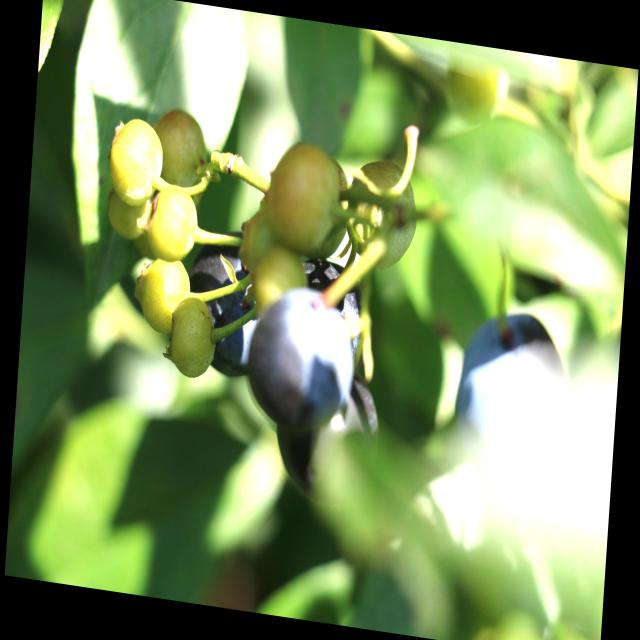blueberry: (245, 279, 363, 431), (270, 370, 387, 508), (182, 226, 268, 385)
blueberry-unripe: (267, 141, 356, 264), (344, 152, 421, 271), (106, 110, 169, 210), (149, 104, 210, 207), (132, 249, 190, 339), (141, 182, 200, 268), (168, 292, 222, 382), (106, 189, 154, 239)
